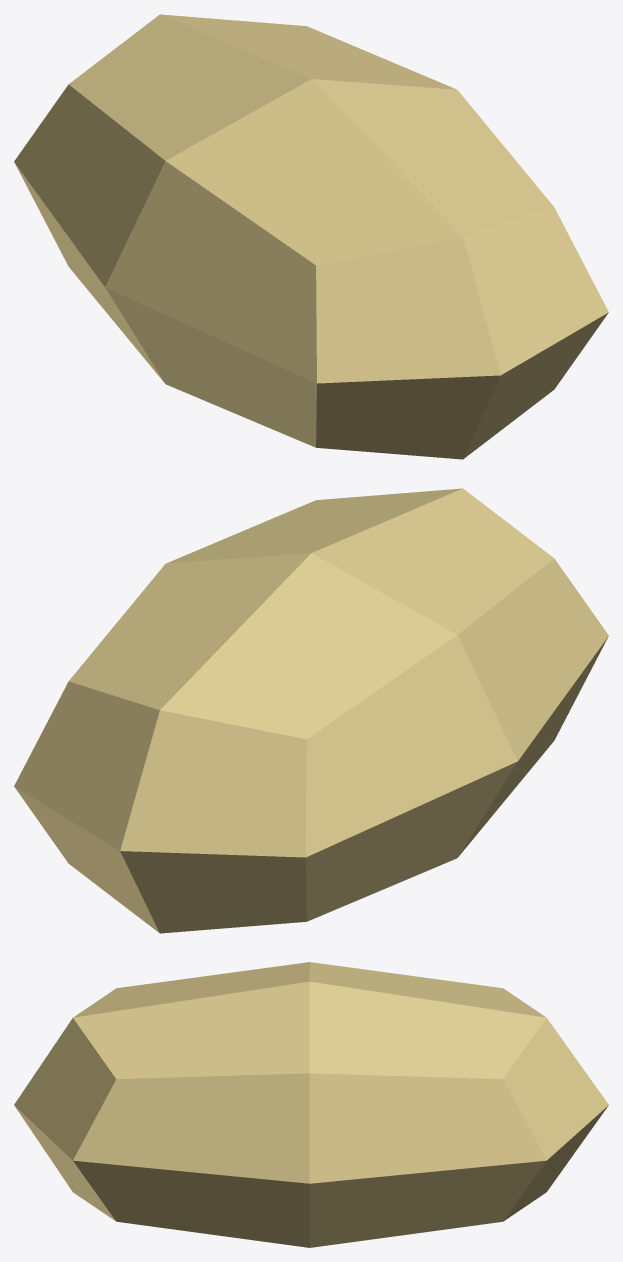
Rendered from Sandbag.fbx.
The picture shows the model from 3 angles, top to bottom: view 1: azimuth 30°, elevation 25°; view 2: azimuth 150°, elevation 25°; view 3: azimuth 270°, elevation 25°; orthographic projection. The views are drawn at different scales.
Visible parts, largest first — view 1: Sandbag; view 2: Sandbag; view 3: Sandbag.
Part boxes in pixels (x1,y1,x2,y2): Sandbag: (14,14,608,459); Sandbag: (14,488,608,933); Sandbag: (14,962,608,1247).
Bounding box in the file's own units: 81.74 × 59.75 × 131.
